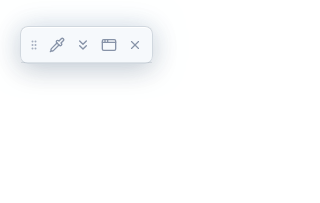
Test: UtilityHub › shows the small-tool row and opens scroll navigation in place
Click the button named "滚动".
click(83, 44)  # box [71, 32, 95, 56]
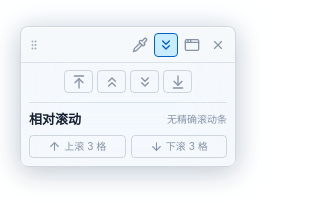
Expected: the button named "到达顶部" is enabled, [64, 70, 93, 93]
